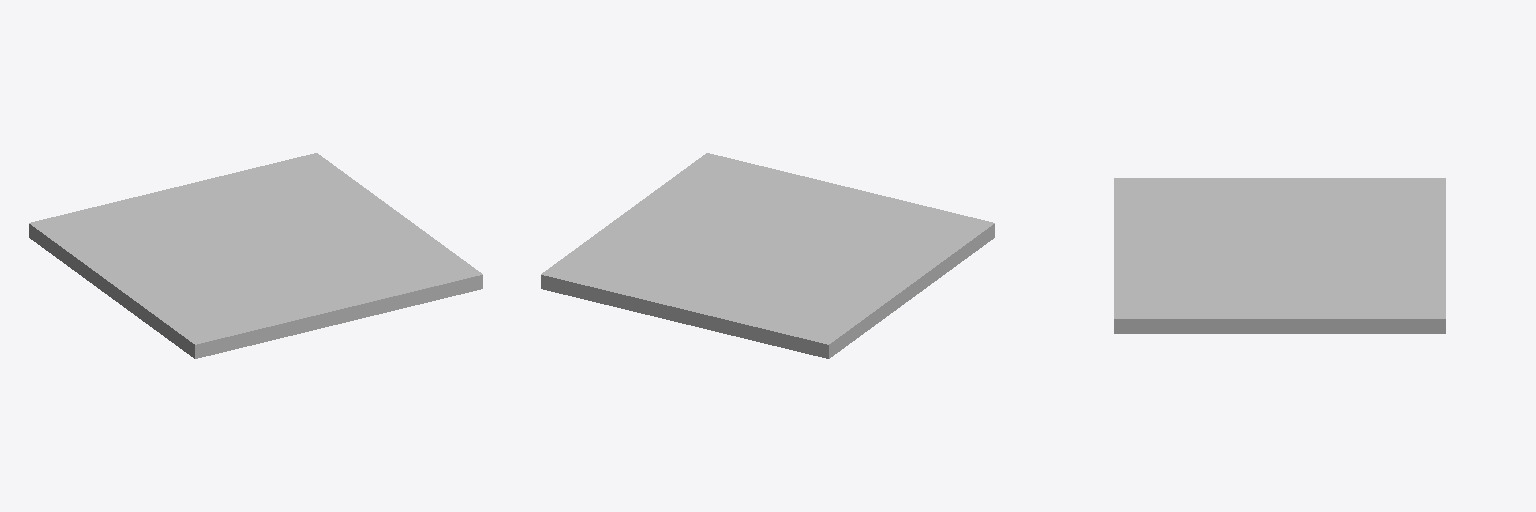
The model's file is wood floor.obj.
3 renders of one model, left to right at view 1: azimuth 30°, elevation 25°; view 2: azimuth 150°, elevation 25°; view 3: azimuth 270°, elevation 25°, orthographic.
Parts seen in each view (by area): view 1: object 1; view 2: object 1; view 3: object 1.
Boxes of the visible parts, box(x1,y1,x2,y2) form: object 1: box(29, 153, 482, 358); object 1: box(541, 153, 994, 358); object 1: box(1114, 178, 1445, 333).
Bounding box in the file's own units: 4.2 × 0.2 × 4.2.